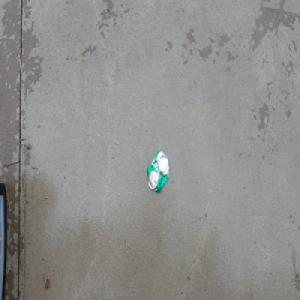SodaCan: (145, 148, 170, 194)
